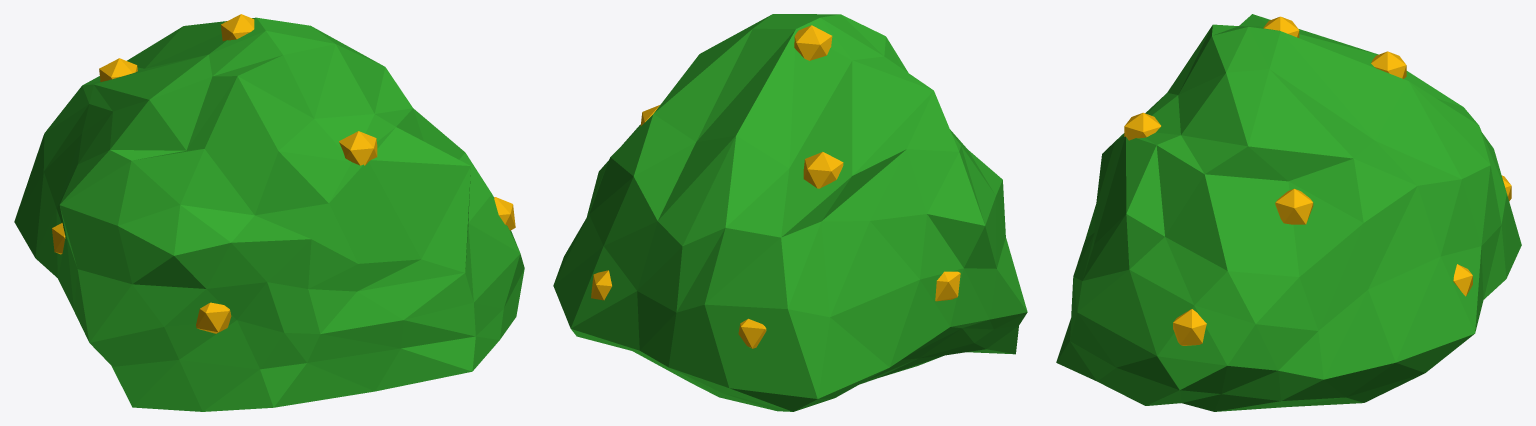
The model's file is BushYellow.obj.
3 views of the same model, side by side, from view 1: azimuth 30°, elevation 25°; view 2: azimuth 150°, elevation 25°; view 3: azimuth 270°, elevation 25° (orthographic). The views are drawn at different scales.
Visible parts, largest first — view 1: Икосфера.004_Икосфера.034; view 2: Икосфера.004_Икосфера.034; view 3: Икосфера.004_Икосфера.034.
Part boxes in pixels (bbox=[...]): Икосфера.004_Икосфера.034: bbox=[14, 14, 524, 411]; Икосфера.004_Икосфера.034: bbox=[553, 14, 1027, 411]; Икосфера.004_Икосфера.034: bbox=[1056, 14, 1521, 411].
Bounding box in the file's own units: 2.33 × 1.77 × 2.3.
